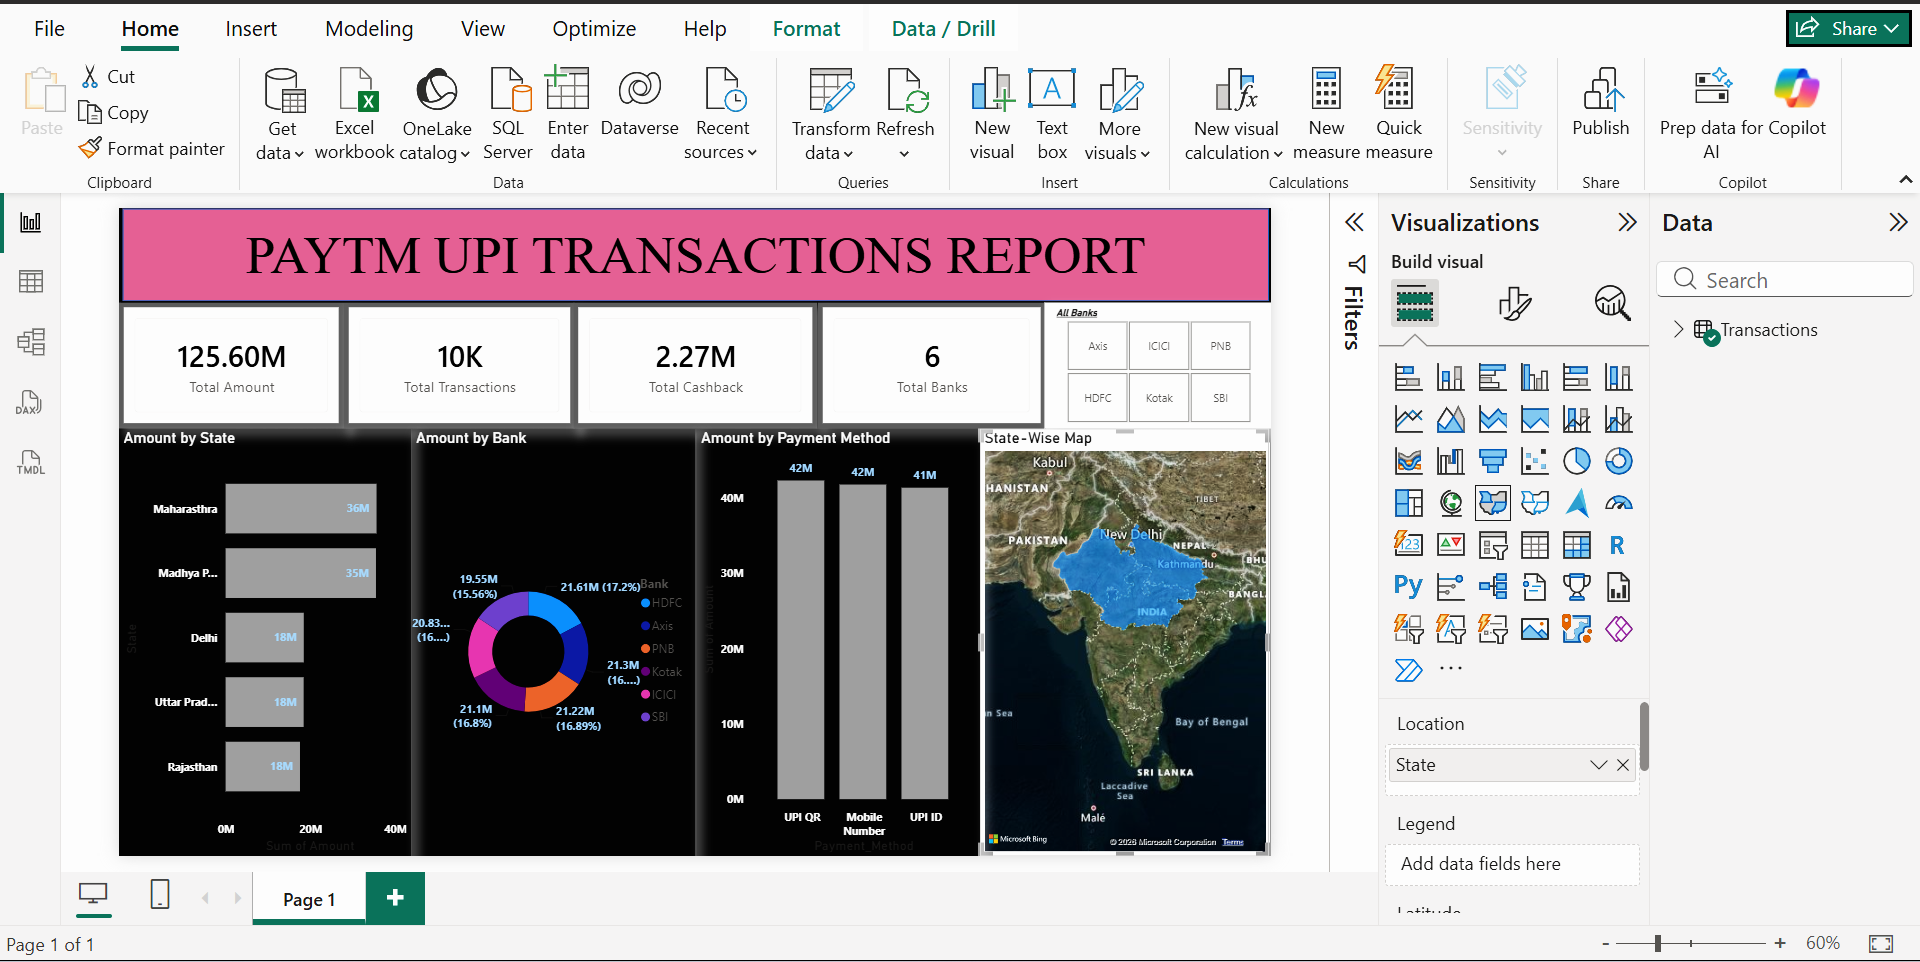

Layout of this report page (visuals, bound fields, positions):
{"tool":"powerbi","page":{"name":"Page 1","canvas":[1280,720],"ordinal":0},"visuals":[{"type":"filledMap","title":"State-Wise Map","fields":{"Category":["Transactions.State"]},"box":[956,245,322.9,475.6],"z":0},{"type":"cardVisual","fields":{"Data":["Sum(Transactions.Amount)"]},"box":[0,105,249.7,140],"z":1000},{"type":"cardVisual","fields":{"Data":["CountNonNull(Transactions.Transaction_ID)"]},"box":[249.7,105,256.1,140],"z":2000},{"type":"cardVisual","fields":{"Data":["Sum(Transactions.Cashback)"]},"box":[505.8,105,270.4,140],"z":3000},{"type":"barChart","title":"Amount by State","fields":{"Category":["Transactions.State"],"Y":["Sum(Transactions.Amount)"]},"box":[0,245,324.5,475.6],"z":4000},{"type":"actionButton","box":[0,0,100,40],"z":5000},{"type":"donutChart","title":"Amount by Bank","fields":{"Y":["Sum(Transactions.Amount)"],"Category":["Transactions.Bank"]},"box":[324.5,245,314.9,475.6],"z":6000},{"type":"columnChart","title":"Amount by Payment Method","fields":{"Y":["Sum(Transactions.Amount)"],"Category":["Transactions.Payment_Method"]},"box":[641,245,314.9,475.6],"z":7000},{"type":"cardVisual","fields":{"Data":["Count(Transactions.Bank)"]},"box":[776.2,105,252.9,140],"z":8000},{"type":"shape","box":[3.2,0,1275.7,105],"z":10000},{"type":"slicer","fields":{"Values":["Transactions.Bank"]},"box":[1027.5,105,252.9,140],"z":10001}]}

Visuals, with their boxes on the page's 1280x720 design canvas (x1, y1, x2, y2). These are canvas units, not pixel positions in the 1920x962 screenshot, which may show the page scaled, cropped or inside an application window:
"State-Wise Map" filledMap: 956, 245, 1279, 721
cardVisual - Sum(Transactions.Amount): 0, 105, 250, 245
cardVisual - CountNonNull(Transactions.Transaction_ID): 250, 105, 506, 245
cardVisual - Sum(Transactions.Cashback): 506, 105, 776, 245
"Amount by State" barChart: 0, 245, 324, 721
actionButton: 0, 0, 100, 40
"Amount by Bank" donutChart: 324, 245, 639, 721
"Amount by Payment Method" columnChart: 641, 245, 956, 721
cardVisual - Count(Transactions.Bank): 776, 105, 1029, 245
shape: 3, 0, 1279, 105
slicer - Transactions.Bank: 1028, 105, 1280, 245
